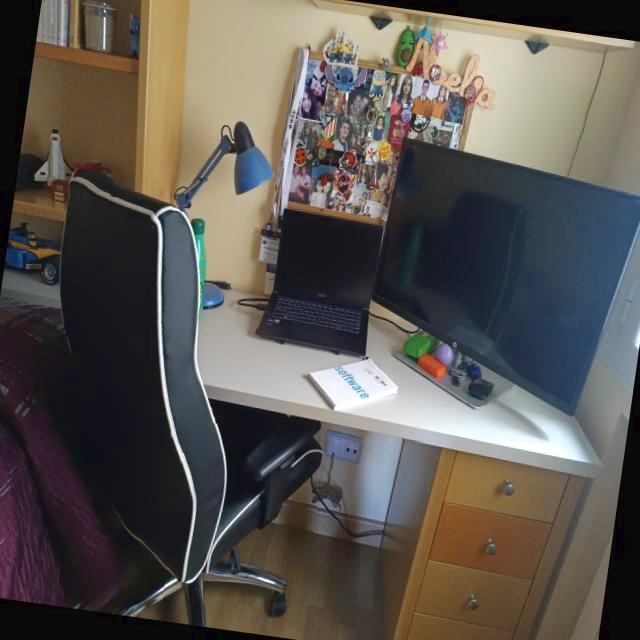bed: (0, 301, 166, 616)
book: (305, 359, 398, 412)
bookshelf: (136, 0, 191, 206), (34, 42, 137, 74), (12, 197, 66, 221)
cabinet: (380, 440, 593, 640)
chair: (60, 170, 324, 626)
lamp: (175, 122, 274, 212), (203, 283, 224, 310)
laptop: (257, 204, 384, 358)
monitor: (373, 140, 640, 418)
pillow: (308, 0, 636, 53)
stove: (196, 290, 602, 476), (0, 268, 60, 308)
